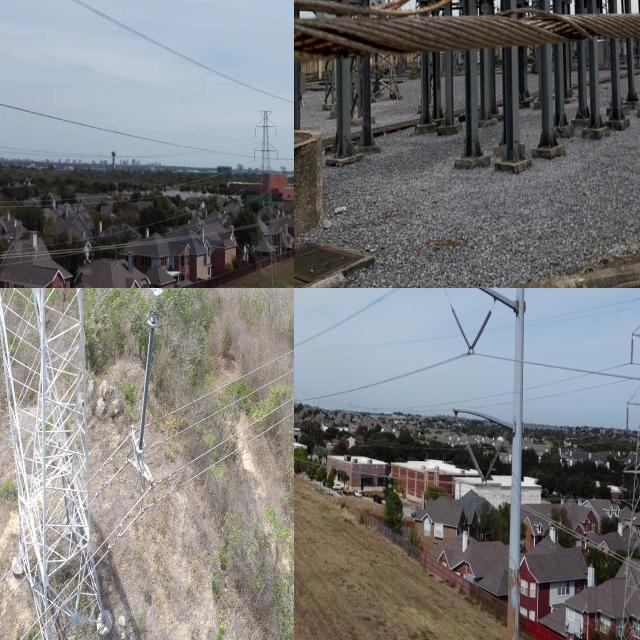杆塔: (0, 288, 179, 640), (607, 288, 640, 640), (244, 99, 284, 288)
正常绝缘子: (136, 301, 159, 478), (462, 300, 499, 368), (446, 294, 477, 362), (625, 332, 638, 376), (622, 398, 632, 447), (252, 149, 256, 163), (274, 126, 278, 140), (277, 173, 280, 189), (254, 126, 257, 138), (276, 148, 278, 162)
电缆破损: (308, 0, 640, 74)
